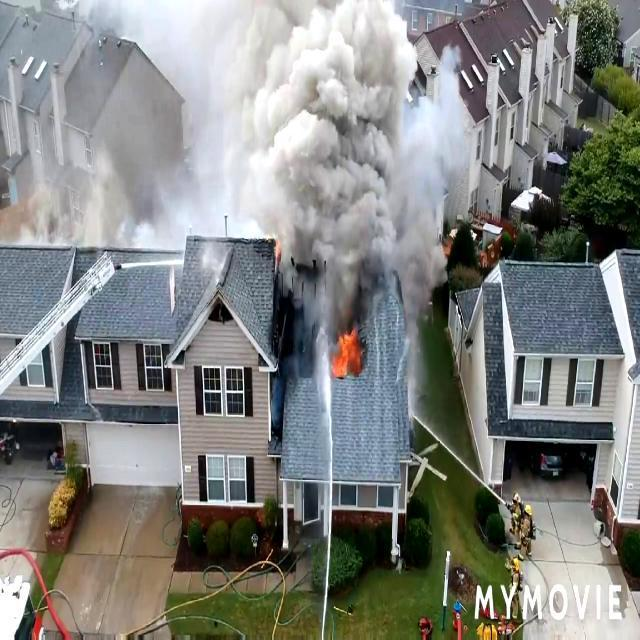Fire: (332, 331, 368, 378)
Smoke: (226, 0, 428, 363)
